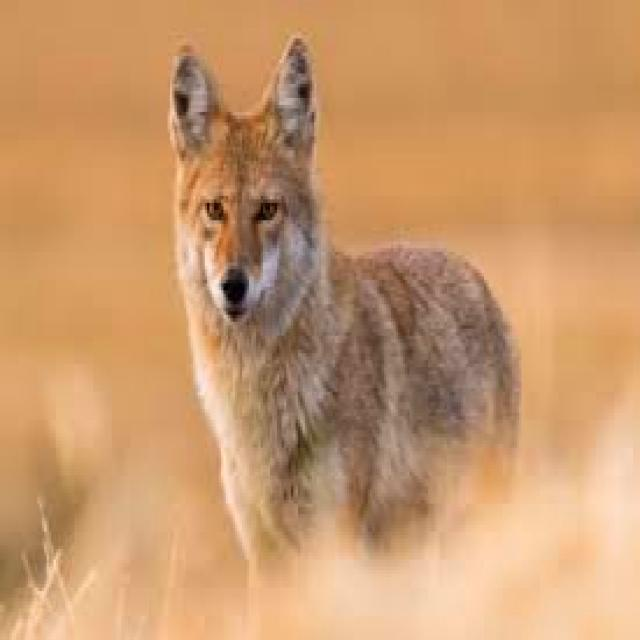coyote: (168, 38, 519, 556)
